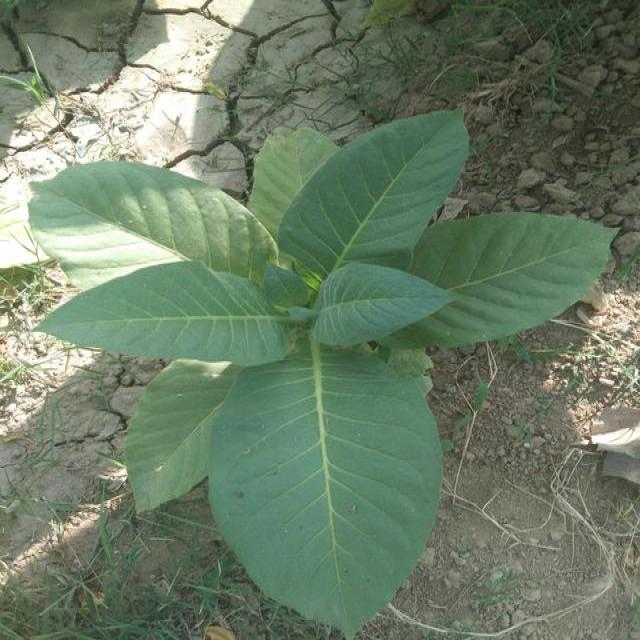crop: (28, 122, 618, 610)
